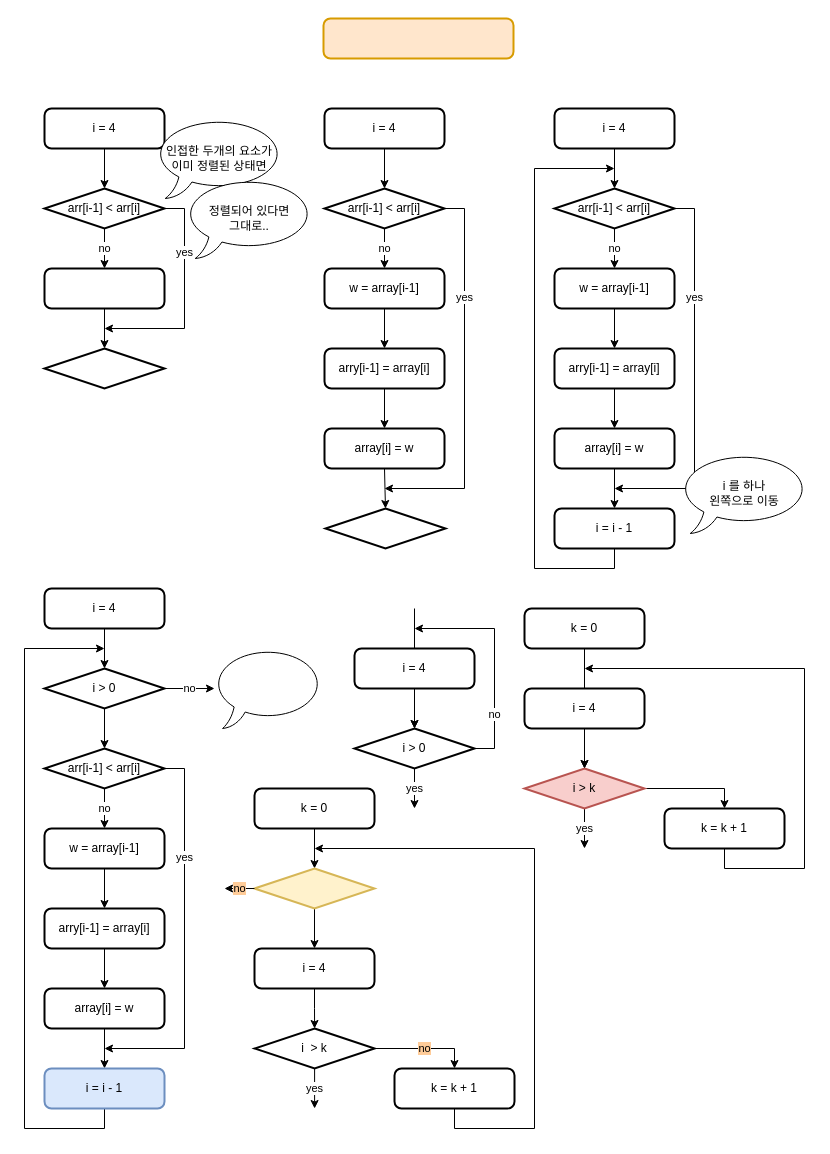
Some shapes in this 830 by 1154 pixel diagram are drawn without their labels. The box of each missing label's shape, as (x1, y1, x2, y2) in pixels:
k < 4: (253, 867, 375, 909)
교환: (43, 267, 165, 309)
두 번째 요소를 확정시키는 처리 로 다시 시작: (212, 648, 324, 728)
정렬 - 단순 교환법: (322, 17, 514, 59)
